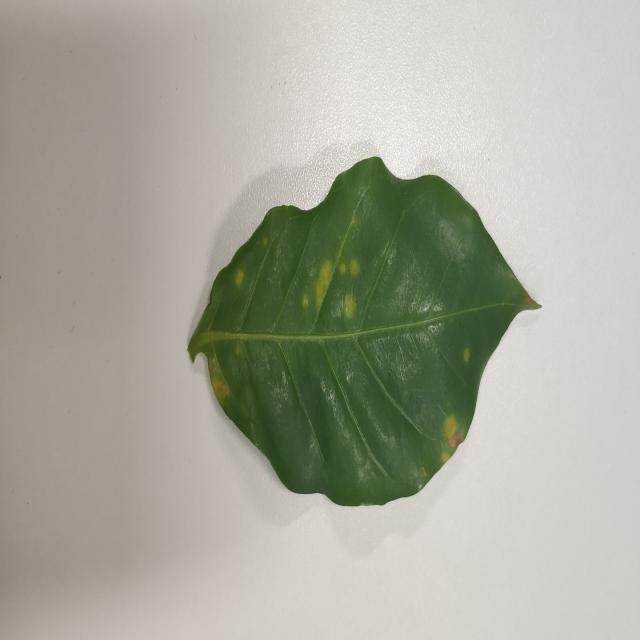Enfermedad-Roya: (186, 157, 541, 510)
